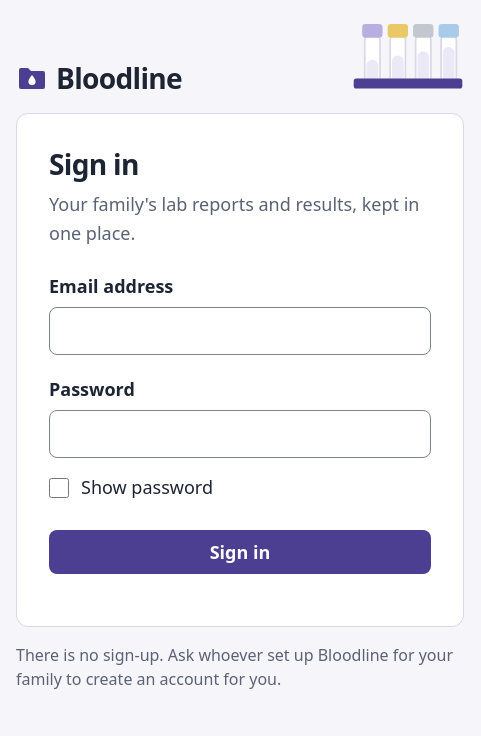
signing in › shows the server message for a wrong password and stays signed out
The width and height of the screenshot is (481, 736).
Type "asha@example.com" into the field labelled "Email address" at (240, 331), box [49,307,431,355]
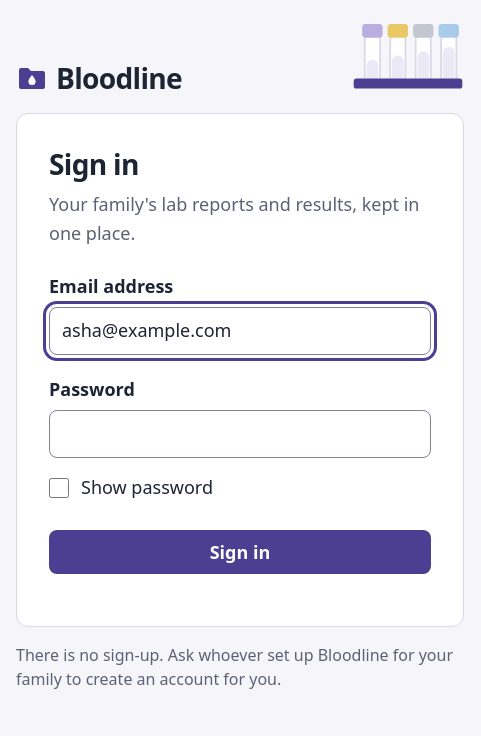
Type "wrong password" into the password field labelled "Password" at (240, 434), box [49,410,431,458]
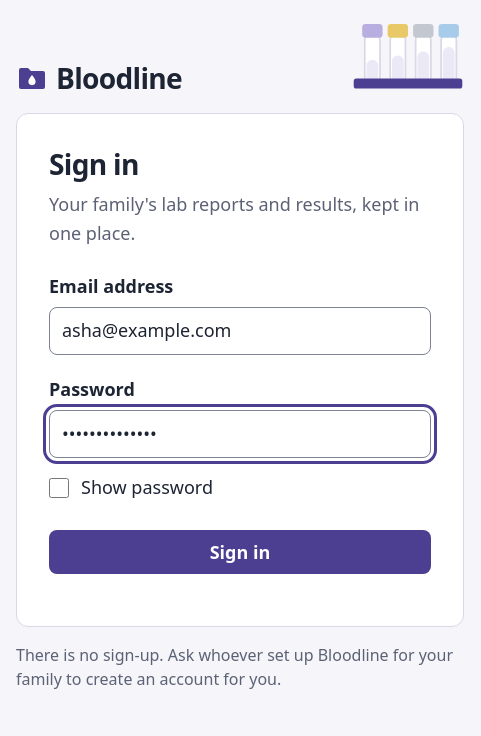
Click the button "Sign in" at (240, 552), box [49,530,431,574]
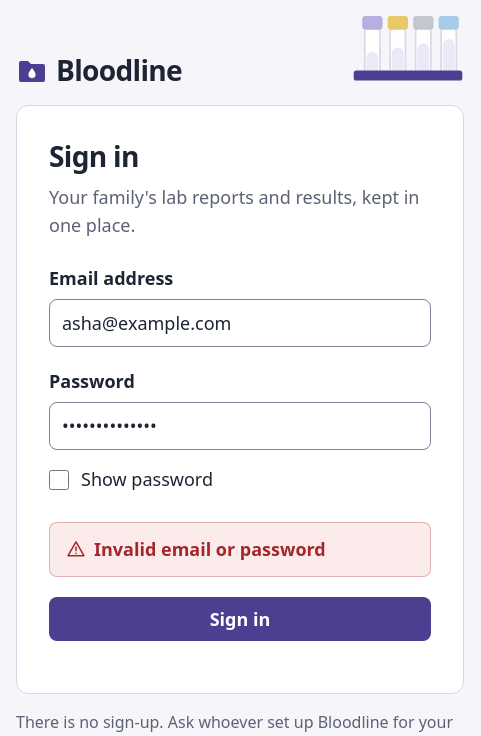
Result: the message reads "Invalid email or password" at [94,537,326,561]
